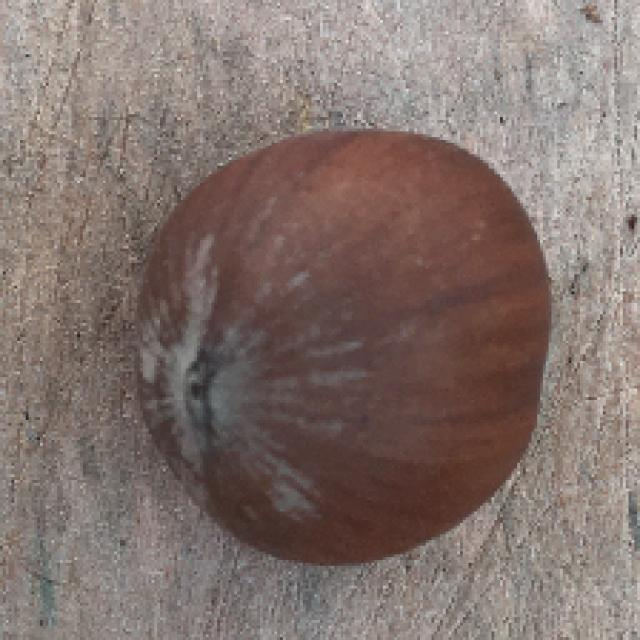damagedHazelnut: (121, 122, 556, 576)
